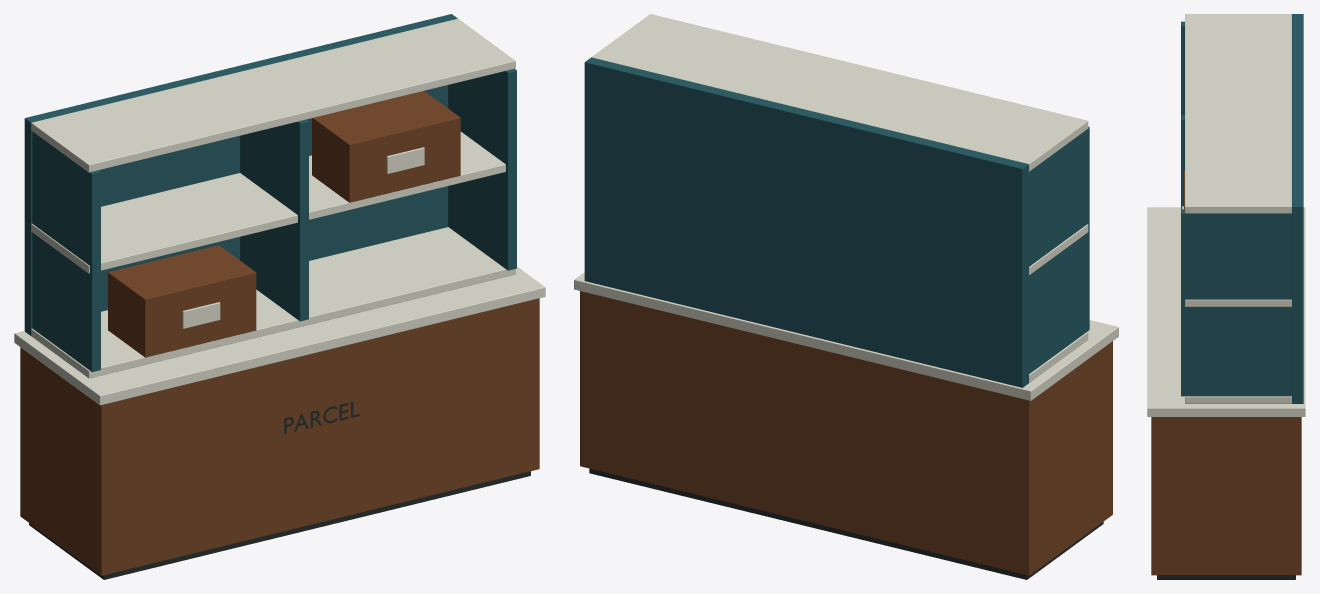
Rendered from parcel-collection-counter.glb.
3 renders of one model, left to right at view 1: azimuth 30°, elevation 25°; view 2: azimuth 150°, elevation 25°; view 3: azimuth 270°, elevation 25°, orthographic. The views are drawn at different scales.
Visible parts, largest first — view 1: Counter_Body, Shelf.002, Rear_Back, Shelf, Shelf.001, Worktop, Cubby_Divider.001, Parcel, Parcel.001, Cubby_Divider, Cubby_Divider.002, Counter_Base (+2 smaller); view 2: Rear_Back, Counter_Body, Shelf.002, Cubby_Divider.001, Worktop, Counter_Base; view 3: Counter_Body, Shelf.002, Cubby_Divider, Worktop, Rear_Back, Shelf, Shelf.001, Counter_Base, Cubby_Divider.001, Cubby_Divider.002.
Boxes of the visible parts, left/top/right/bottom form: Counter_Body: left=20, top=298, right=539, bottom=575; Shelf.002: left=31, top=18, right=515, bottom=172; Rear_Back: left=24, top=14, right=457, bottom=335; Shelf: left=31, top=227, right=515, bottom=378; Shelf.001: left=31, top=131, right=505, bottom=273; Worktop: left=14, top=266, right=545, bottom=405; Cubby_Divider.001: left=32, top=131, right=100, bottom=371; Parcel: left=108, top=245, right=256, bottom=357; Parcel.001: left=312, top=91, right=460, bottom=202; Cubby_Divider: left=448, top=69, right=516, bottom=270; Cubby_Divider.002: left=240, top=119, right=308, bottom=321; Counter_Base: left=29, top=471, right=530, bottom=579; Rear_Back: left=584, top=57, right=1028, bottom=387; Counter_Body: left=580, top=291, right=1112, bottom=575; Shelf.002: left=591, top=14, right=1088, bottom=171; Cubby_Divider.001: left=1029, top=126, right=1089, bottom=373; Worktop: left=574, top=272, right=1118, bottom=400; Counter_Base: left=589, top=468, right=1103, bottom=579; Counter_Body: left=1151, top=417, right=1301, bottom=575; Shelf.002: left=1185, top=14, right=1291, bottom=213; Cubby_Divider: left=1181, top=209, right=1291, bottom=396; Worktop: left=1147, top=207, right=1305, bottom=416; Rear_Back: left=1292, top=14, right=1303, bottom=403; Shelf: left=1185, top=396, right=1291, bottom=403; Shelf.001: left=1185, top=299, right=1291, bottom=306; Counter_Base: left=1157, top=575, right=1295, bottom=579; Cubby_Divider.001: left=1181, top=21, right=1184, bottom=115; Cubby_Divider.002: left=1181, top=115, right=1184, bottom=209.
Size of the model in its own units: 2.4 by 2.08 by 0.8.
